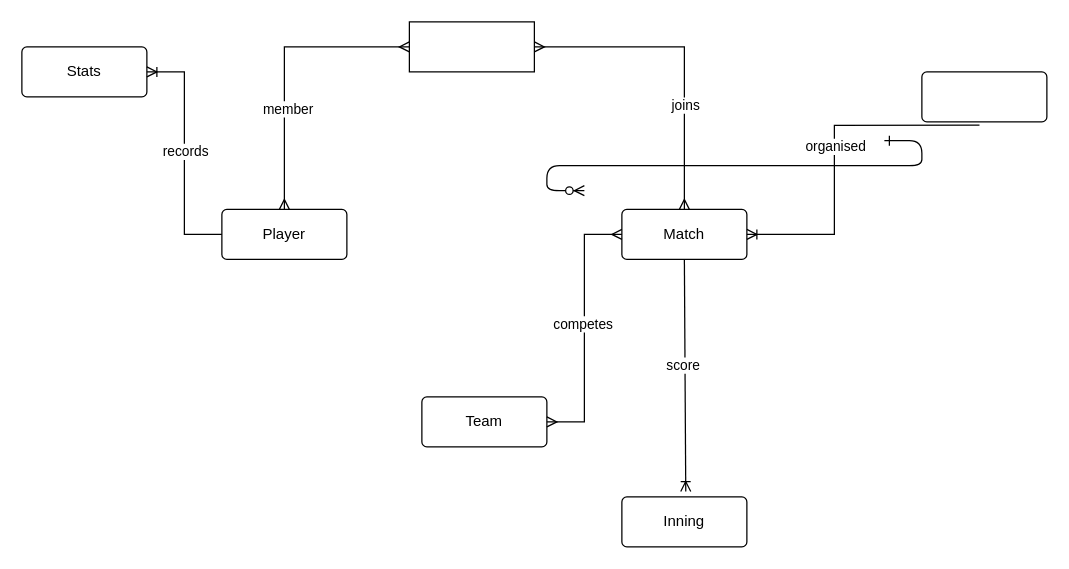
The diagram is 1069 pixels wide and 569 high, and some of its shapes have lost their labels. The centre of each missing label's shape, as x and y in pixels:
Sqaud: the point at 471,46
Tournament: the point at 984,96
